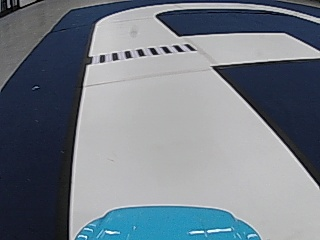CrossWalk: (92, 42, 196, 63)
